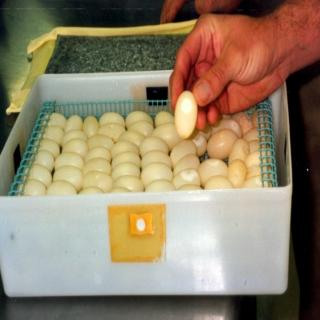Egg: (18, 90, 272, 194)
